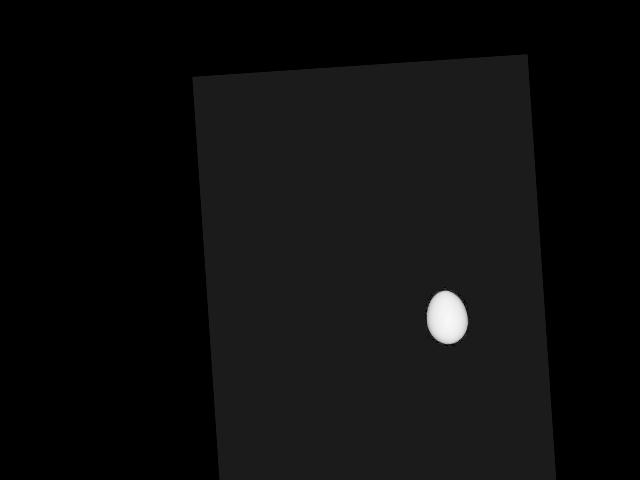egg: (424, 289, 469, 345)
